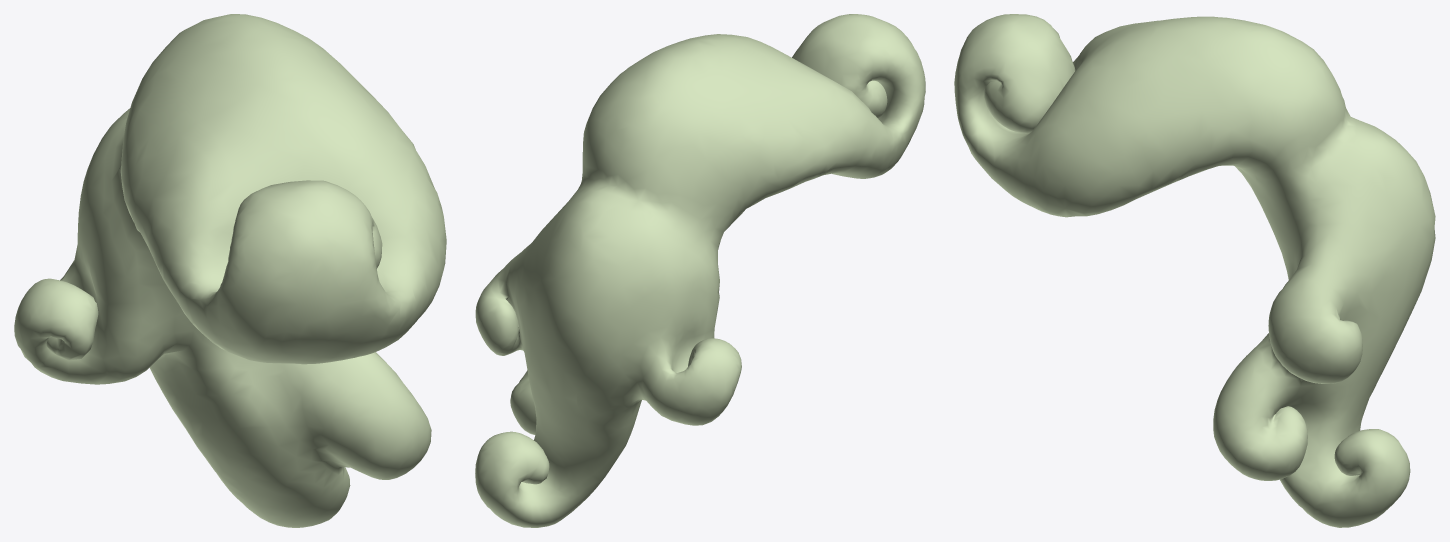
File: Mane_08.fbx
3 renders of one model, left to right at view 1: azimuth 30°, elevation 25°; view 2: azimuth 150°, elevation 25°; view 3: azimuth 270°, elevation 25°, orthographic. The views are drawn at different scales.
Parts seen in each view (by area): view 1: Mane_08; view 2: Mane_08; view 3: Mane_08.
Boxes of the visible parts, box(x1,y1,x2,y2) form: Mane_08: box(14, 14, 446, 527); Mane_08: box(475, 14, 925, 527); Mane_08: box(954, 14, 1435, 527).
Bounding box in the file's own units: 1.77 × 2.67 × 2.56.
